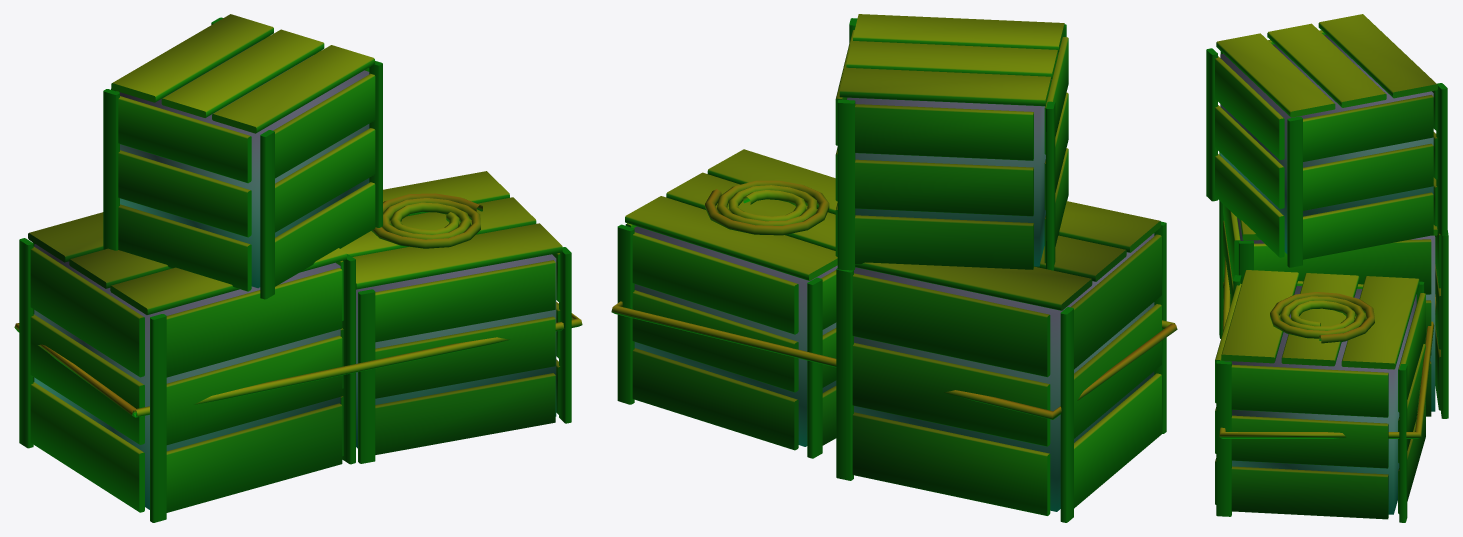
The model's file is crate_stack.glb.
The picture shows the model from 3 angles, left to right: view 1: azimuth 30°, elevation 25°; view 2: azimuth 150°, elevation 25°; view 3: azimuth 270°, elevation 25°; orthographic projection. The views are drawn at different scales.
Parts seen in each view (by area): view 1: crate_stack; view 2: crate_stack; view 3: crate_stack.
Boxes of the visible parts, left/top/right/bottom form: crate_stack: left=14, top=14, right=582, bottom=522; crate_stack: left=611, top=14, right=1177, bottom=522; crate_stack: left=1206, top=14, right=1448, bottom=522.
Size of what is drawn, in the model's own units: 1.4 by 1.1 by 0.7188.
